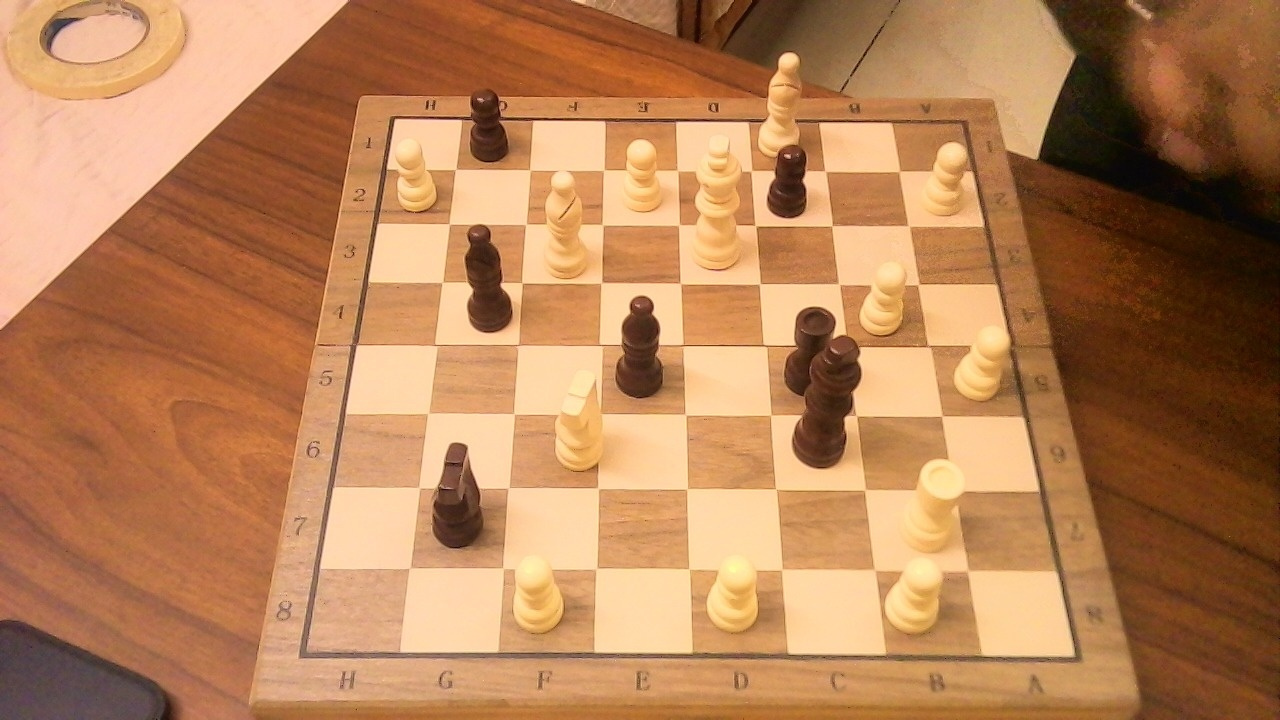B: (533, 159, 596, 282), (754, 41, 813, 162)
K: (684, 123, 753, 275)
N: (544, 358, 611, 475)
P: (947, 316, 1019, 404), (505, 544, 572, 638), (699, 544, 767, 636), (883, 547, 951, 637), (914, 133, 977, 219), (854, 252, 915, 338), (612, 130, 669, 217), (387, 130, 443, 214)
R: (893, 448, 973, 556)
b: (453, 209, 520, 337), (608, 282, 677, 401)
k: (783, 322, 876, 475)
n: (421, 428, 497, 551)
p: (760, 134, 819, 222), (463, 79, 518, 165)
r: (777, 294, 849, 400)
